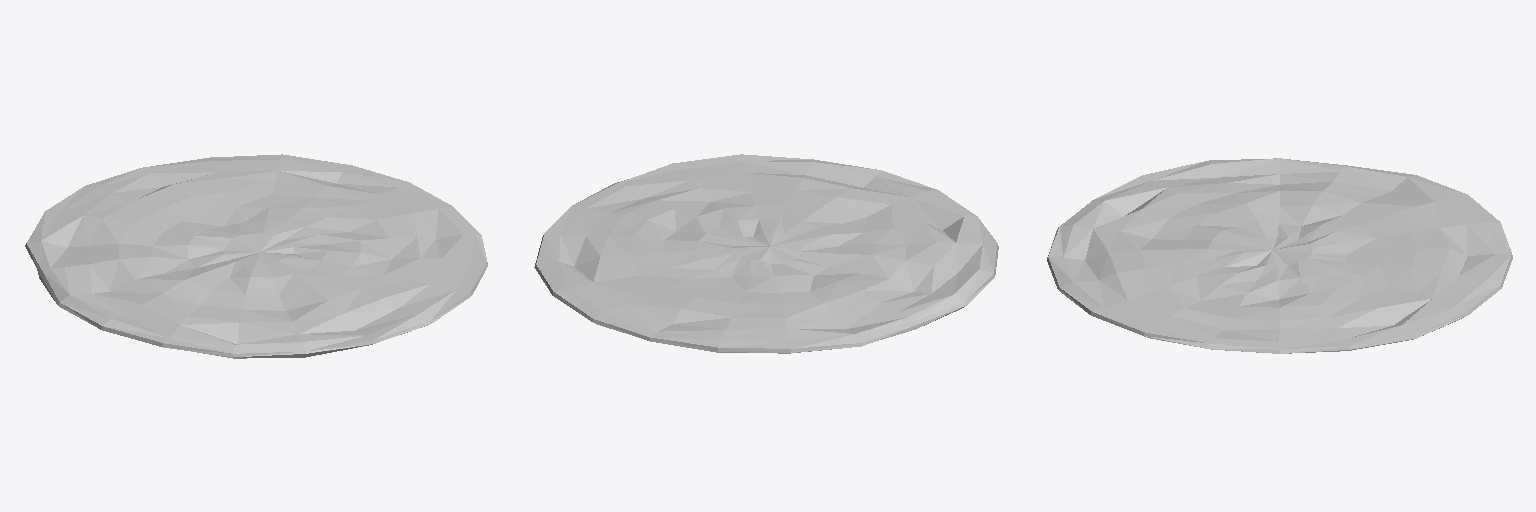
File: pizzadough-lowpoly.obj
3 renders of one model, left to right at view 1: azimuth 30°, elevation 25°; view 2: azimuth 150°, elevation 25°; view 3: azimuth 270°, elevation 25°, orthographic.
Visible parts, largest first — view 1: pizzadough-lowpoly.001; view 2: pizzadough-lowpoly.001; view 3: pizzadough-lowpoly.001.
Boxes of the visible parts, box(x1,y1,x2,y2) form: pizzadough-lowpoly.001: box(25, 154, 487, 358); pizzadough-lowpoly.001: box(534, 154, 998, 353); pizzadough-lowpoly.001: box(1047, 158, 1512, 353).
Size of the model in its own units: 22.31 by 1.08 by 22.71.